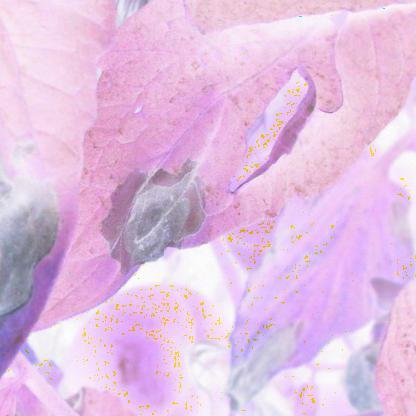Tomato leaf mosaic virus: (51, 7, 416, 301)
